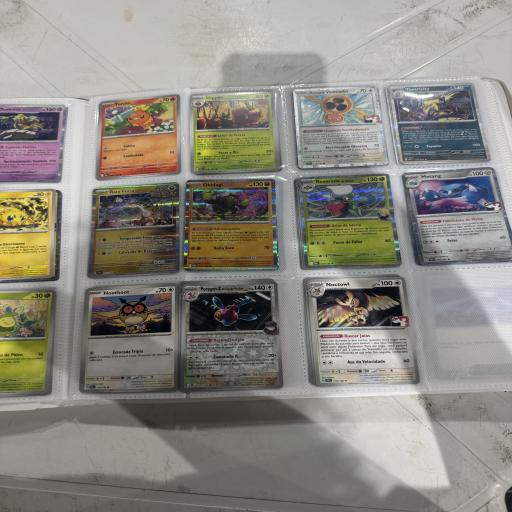card: (307, 271, 420, 393), (403, 156, 512, 278), (178, 282, 284, 391), (78, 283, 179, 392), (297, 173, 403, 270), (86, 180, 181, 280), (182, 179, 280, 272), (88, 94, 188, 184), (388, 82, 492, 165), (292, 85, 390, 169), (187, 91, 279, 175)
